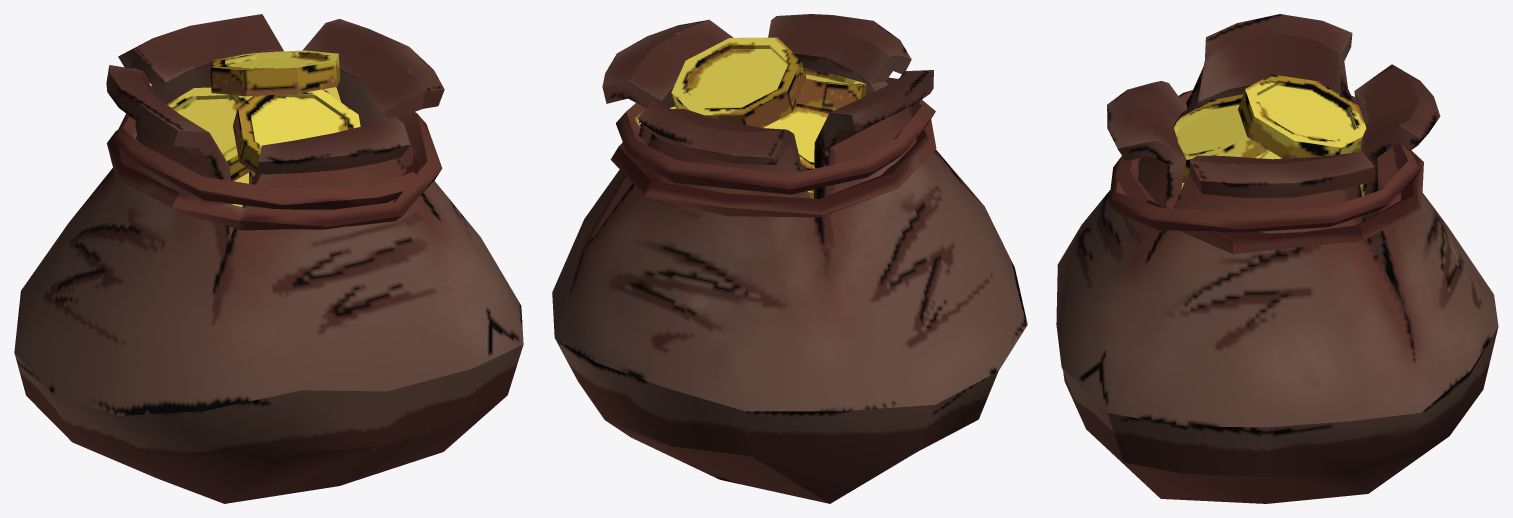
File: CoinPouch.fbx
3 renders of one model, left to right at view 1: azimuth 30°, elevation 25°; view 2: azimuth 150°, elevation 25°; view 3: azimuth 270°, elevation 25°, orthographic. The views are drawn at different scales.
Visible parts, largest first — view 1: Pouch, Coin.006, Coin.001, Coin.005; view 2: Pouch, Coin.001, Coin.006, Coin.005; view 3: Pouch, Coin.001, Coin.006.
Part boxes in pixels (x1,y1,x2,y2): Pouch: [14, 14, 523, 503]; Coin.006: [233, 89, 360, 173]; Coin.001: [210, 50, 340, 96]; Coin.005: [167, 87, 252, 181]; Pouch: [552, 14, 1027, 503]; Coin.001: [671, 37, 806, 127]; Coin.006: [797, 68, 866, 109]; Coin.005: [763, 103, 835, 191]; Pouch: [1056, 14, 1498, 503]; Coin.001: [1238, 74, 1366, 158]; Coin.006: [1174, 94, 1266, 182].
Bounding box in the file's own units: 20.76 × 19.38 × 18.34.
1 material, 1 textured.
